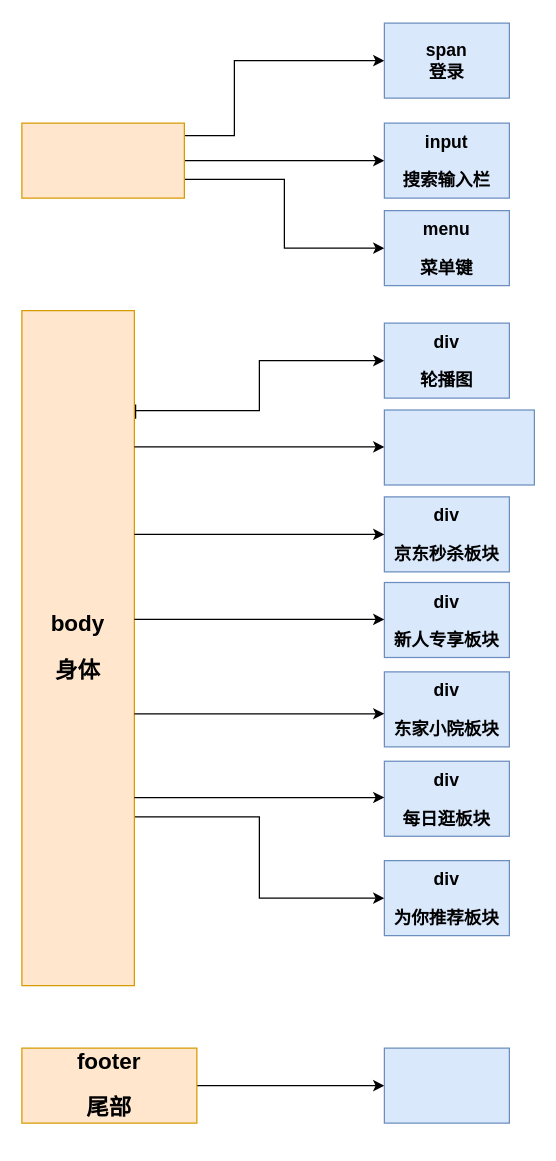
This 556x1161 diagram has some shape labels left out. Here are the shapes that lost their labels. From the top down, the centre of each, then its label:
At (x=102, y=160): "header 头部".
At (x=458, y=447): "nav 京东超市菜单板块".
At (x=446, y=1085): "divs 用户相关图标".
